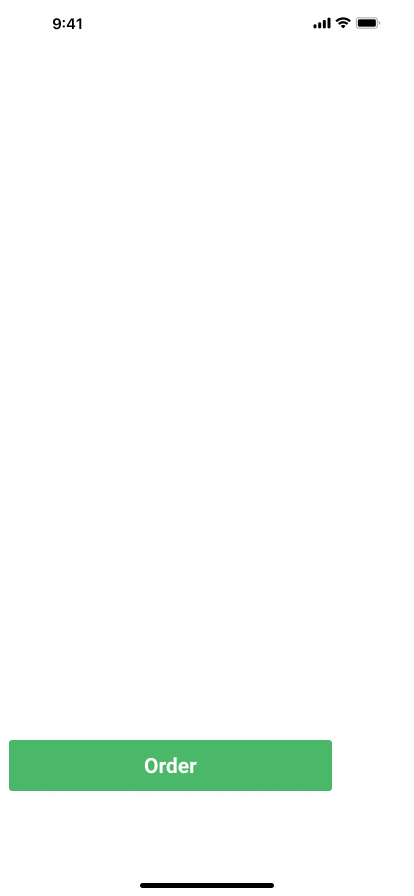Buttons: (8, 740, 333, 798)
Home Indicator: (0, 862, 414, 896)
Status Bar: (0, 0, 414, 44)
